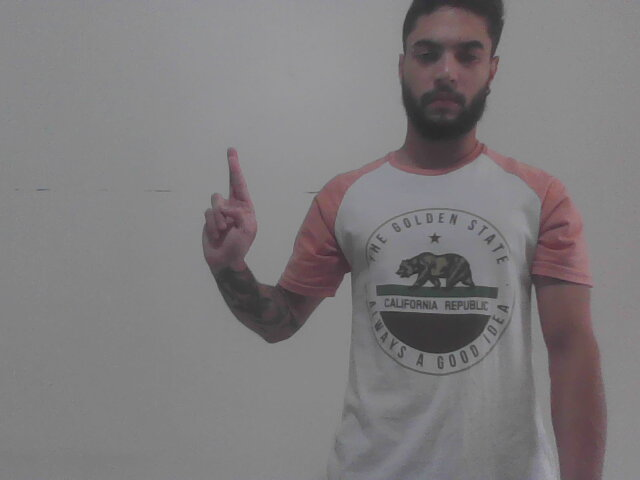r: (196, 145, 259, 268)
